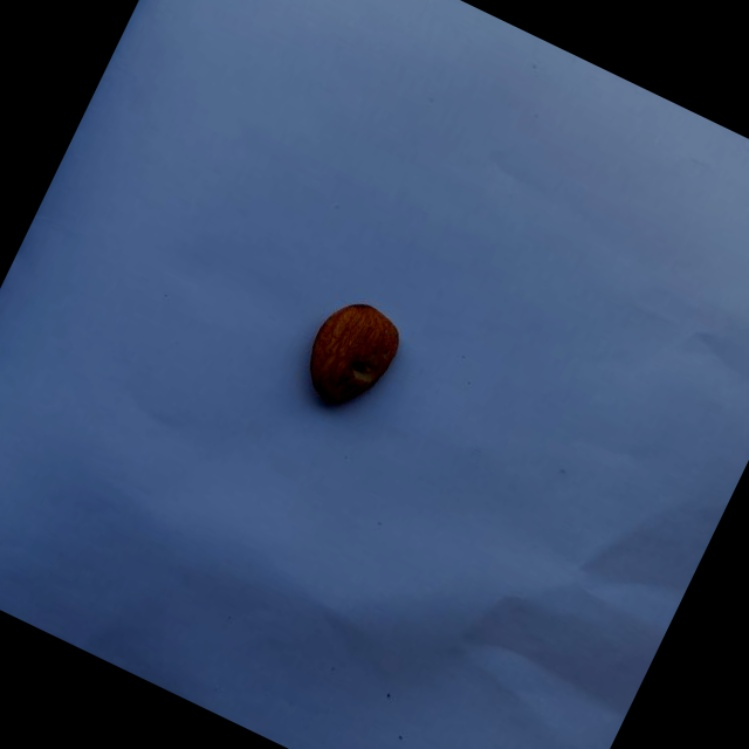grade3: (288, 285, 417, 427)
